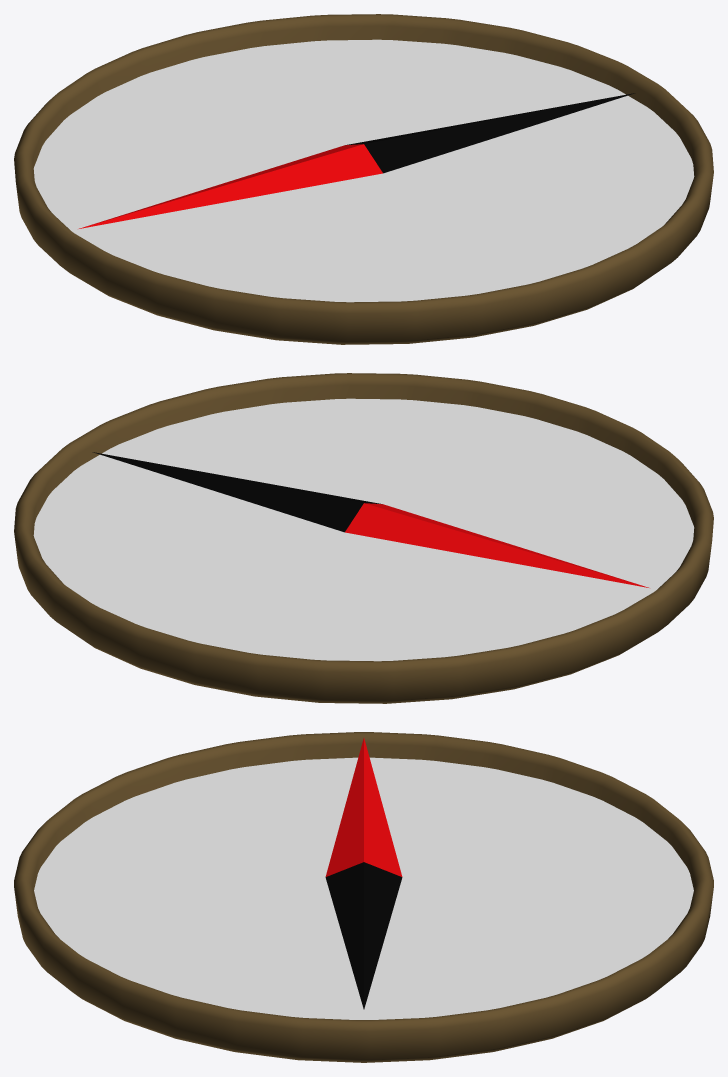
The model's file is compass.fbx.
The picture shows the model from 3 angles, top to bottom: view 1: azimuth 30°, elevation 25°; view 2: azimuth 150°, elevation 25°; view 3: azimuth 270°, elevation 25°; orthographic projection.
Visible parts, largest first — view 1: Circle.002, Circle, Circle.001; view 2: Circle.002, Circle, Circle.001; view 3: Circle.002, Circle, Circle.001.
Boxes of the visible parts, x1=… form: Circle.002: x1=33, y1=39, x2=694, y2=302; Circle: x1=14, y1=14, x2=713, y2=344; Circle.001: x1=79, y1=93, x2=635, y2=228; Circle.002: x1=33, y1=398, x2=694, y2=661; Circle: x1=14, y1=373, x2=713, y2=703; Circle.001: x1=92, y1=452, x2=648, y2=587; Circle.002: x1=34, y1=757, x2=693, y2=1019; Circle: x1=14, y1=732, x2=713, y2=1062; Circle.001: x1=325, y1=738, x2=402, y2=1009.
Bounding box in the file's own units: 211 × 19.18 × 211.
